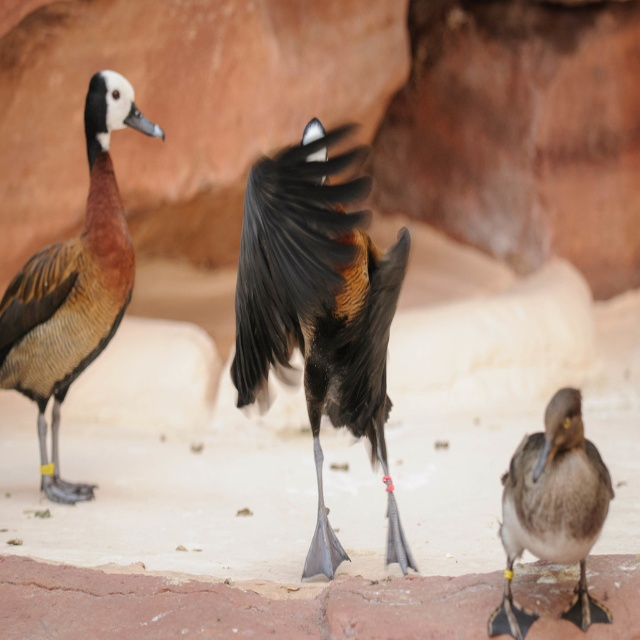Duck: (220, 118, 424, 586), (4, 73, 168, 513), (500, 390, 620, 609)
